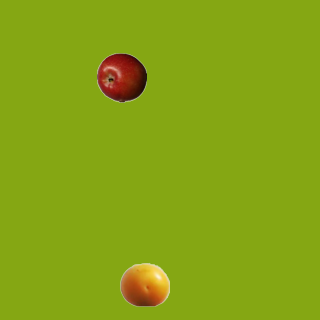Apple Braeburn: (96, 52, 146, 102)
Cherry Wax Yellow: (119, 259, 169, 309)
